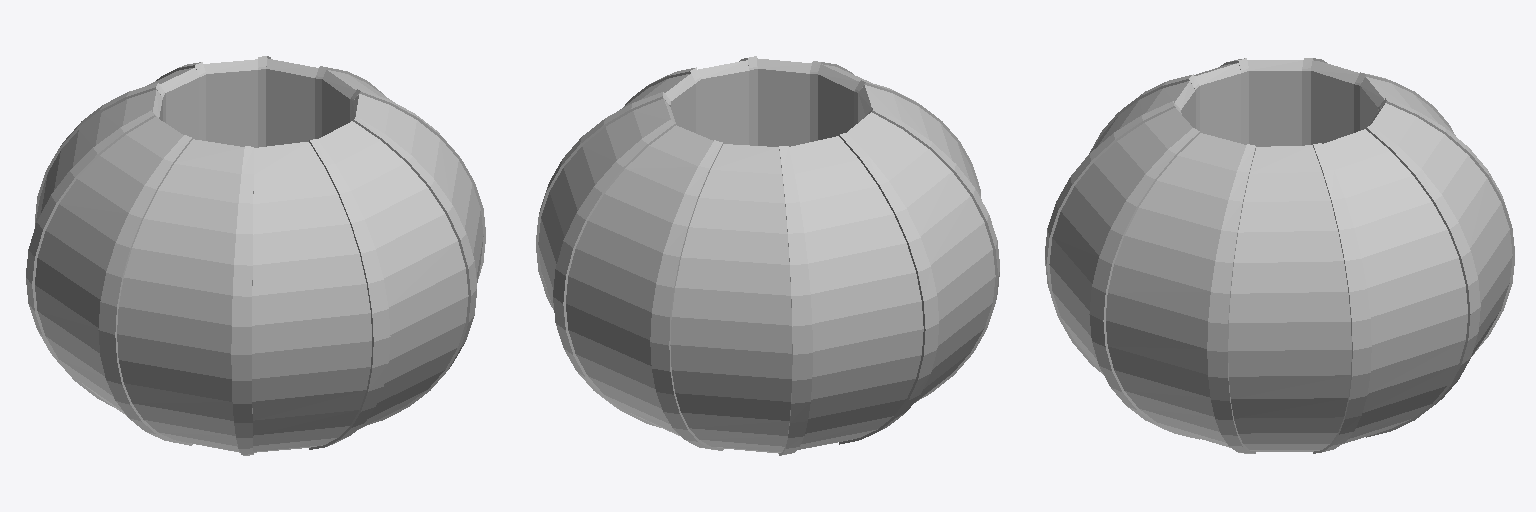
File: lantern.obj
3 views of the same model, side by side, from view 1: azimuth 30°, elevation 25°; view 2: azimuth 150°, elevation 25°; view 3: azimuth 270°, elevation 25° (orthographic).
Parts seen in each view (by area): view 1: pSphere1; view 2: pSphere1; view 3: pSphere1.
Part boxes in pixels (x1,y1,x2,y2): pSphere1: (26,56,485,455); pSphere1: (536,56,999,455); pSphere1: (1045,58,1514,453).
Size of the model in its own units: 1.96 by 1.47 by 2.02.